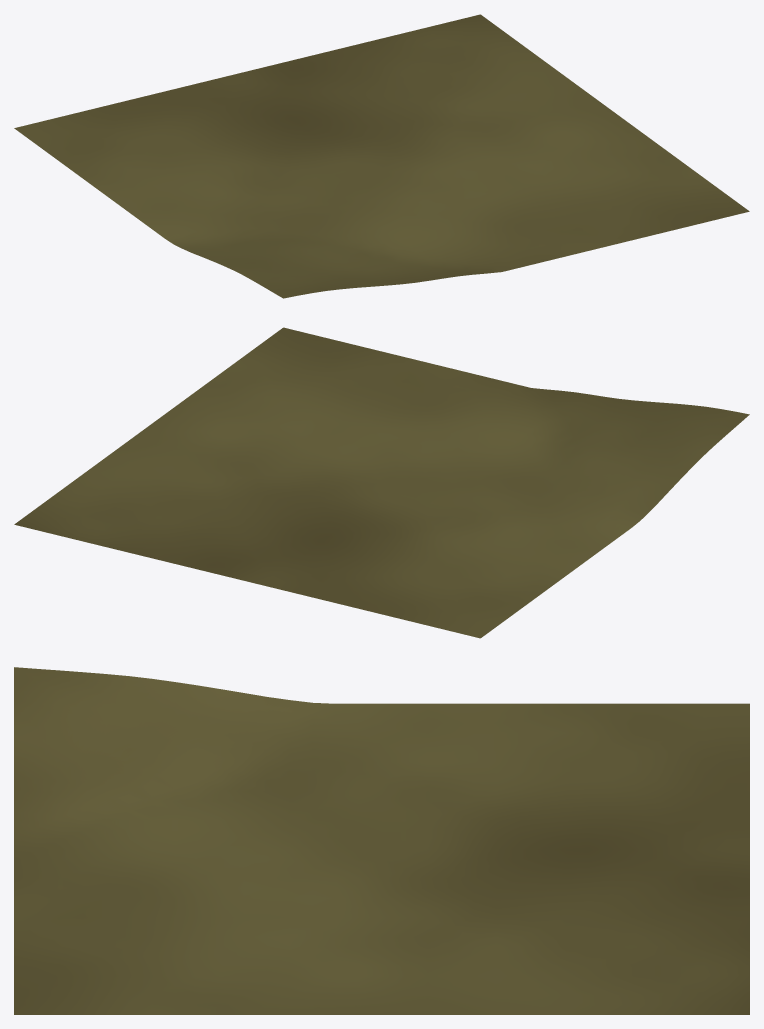
File: terrain_lod0_1_-4.obj
The picture shows the model from 3 angles, top to bottom: view 1: azimuth 30°, elevation 25°; view 2: azimuth 150°, elevation 25°; view 3: azimuth 270°, elevation 25°; orthographic projection. The views are drawn at different scales.
Visible parts, largest first — view 1: terrain_lod0_1_-4; view 2: terrain_lod0_1_-4; view 3: terrain_lod0_1_-4.
Boxes of the visible parts, <box> form: terrain_lod0_1_-4: <box>14,14,749,298</box>; terrain_lod0_1_-4: <box>14,327,749,638</box>; terrain_lod0_1_-4: <box>14,667,749,1014</box>.
Size of the model in its own units: 64 by 3.52 by 64.
